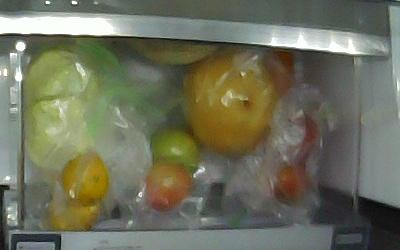carrot_vinyl: (24, 45, 101, 167)
melon: (127, 38, 218, 64)
pear_vinyl: (182, 50, 276, 157)
prune_vinyl: (275, 165, 308, 205), (293, 112, 316, 164)
tangerine_vinyl: (62, 152, 108, 206), (49, 198, 100, 232)
tomato_vinyl: (149, 127, 199, 174), (148, 164, 191, 211)
